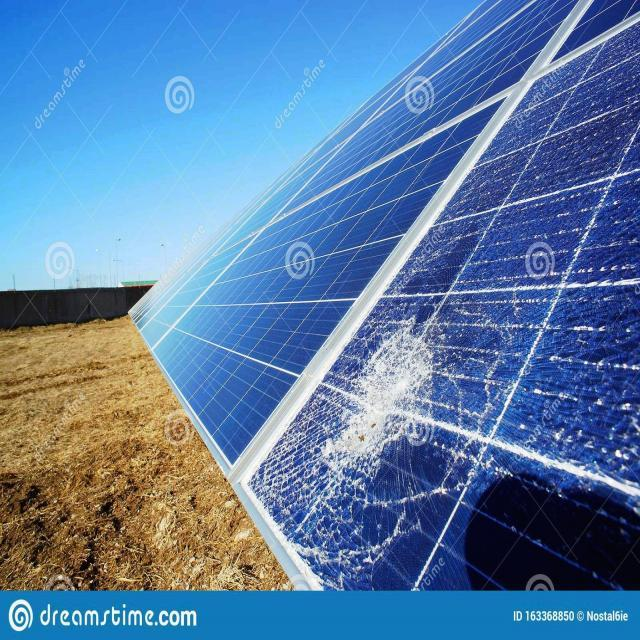faulty: (235, 19, 640, 590)
no faulty: (149, 96, 516, 470)
